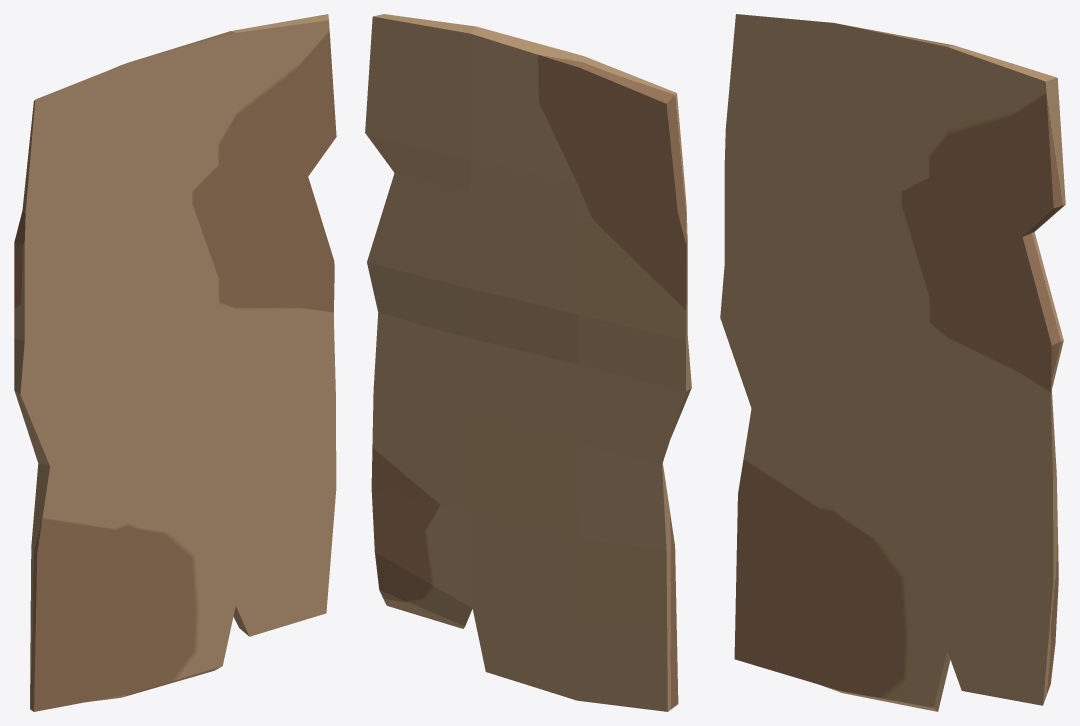
The model's file is SM_Plywood_Board_B.gltf.
3 views of the same model, side by side, from view 1: azimuth 30°, elevation 25°; view 2: azimuth 150°, elevation 25°; view 3: azimuth 330°, elevation 25° (orthographic). The views are drawn at different scales.
Visible parts, largest first — view 1: SM_Plywood_Board_B; view 2: SM_Plywood_Board_B; view 3: SM_Plywood_Board_B.
Boxes of the visible parts, bbox=[...] form: SM_Plywood_Board_B: bbox=[14, 14, 336, 711]; SM_Plywood_Board_B: bbox=[365, 14, 691, 711]; SM_Plywood_Board_B: bbox=[720, 14, 1065, 711].
Size of the model in its own units: 1.3 by 2.49 by 0.0512.
1 material, 1 textured.
